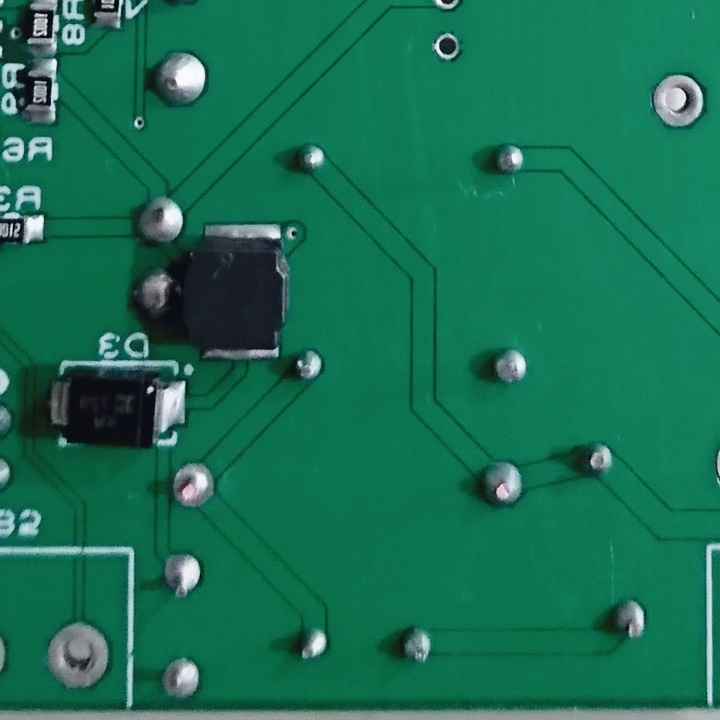F: (43, 620, 119, 683), (647, 71, 712, 129), (167, 461, 218, 513), (160, 547, 206, 600), (158, 652, 202, 701), (430, 28, 466, 63)
